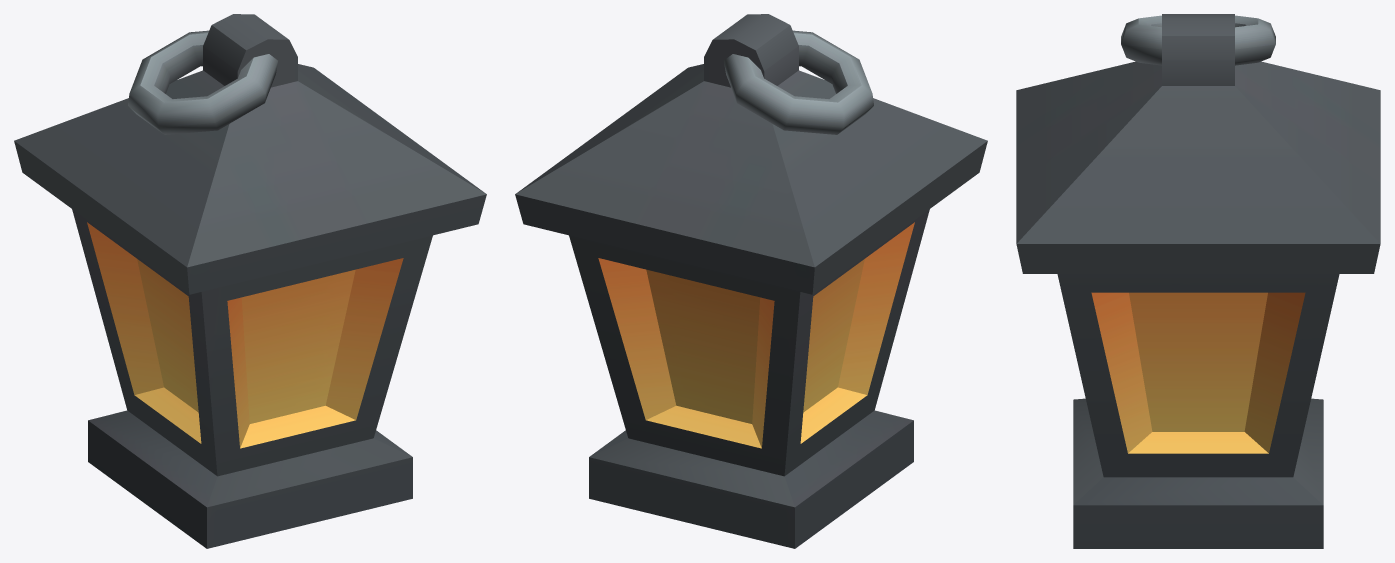
File: lantern_standing.glb
The picture shows the model from 3 angles, left to right: view 1: azimuth 30°, elevation 25°; view 2: azimuth 150°, elevation 25°; view 3: azimuth 270°, elevation 25°; orthographic projection. The views are drawn at different scales.
Visible parts, largest first — view 1: lantern_standing; view 2: lantern_standing; view 3: lantern_standing.
Part boxes in pixels (x1,y1,x2,y2): lantern_standing: [14, 14, 486, 548]; lantern_standing: [515, 14, 987, 548]; lantern_standing: [1016, 14, 1380, 548].
Size of the model in its own units: 0.64 by 0.9252 by 0.64.
Materials: 1 (1 with a texture image).
